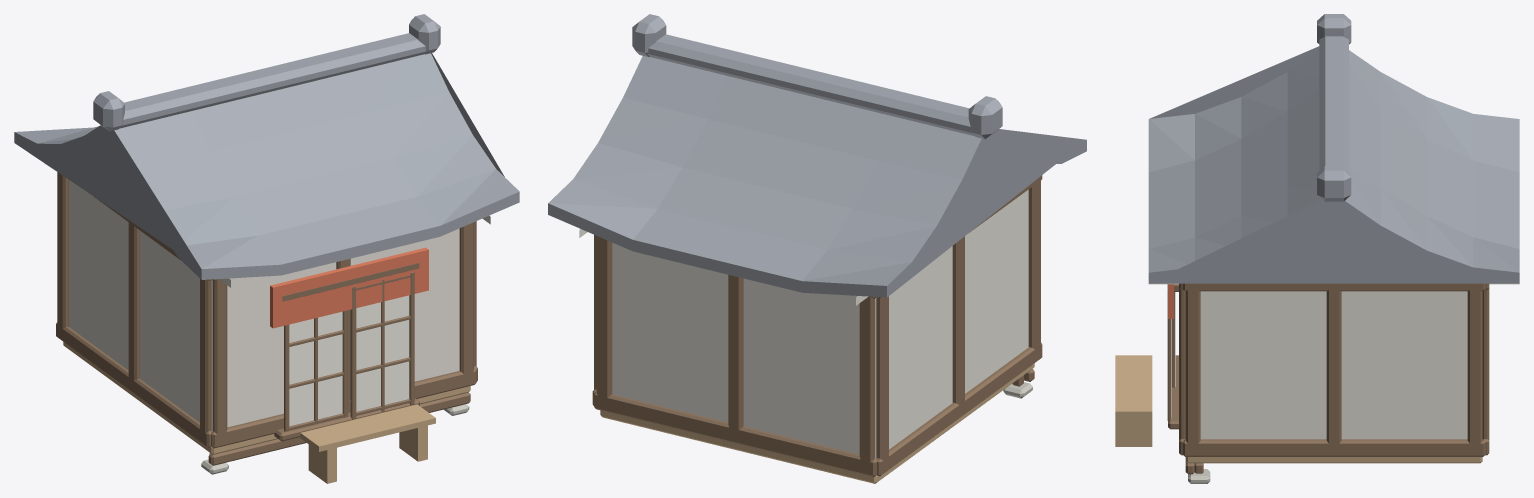
File: noodle-shop.glb
3 views of the same model, side by side, from view 1: azimuth 30°, elevation 25°; view 2: azimuth 150°, elevation 25°; view 3: azimuth 270°, elevation 25° (orthographic). The views are drawn at different scales.
Parts seen in each view (by area): view 1: noodle-shop; view 2: noodle-shop; view 3: noodle-shop.
Boxes of the visible parts, box(x1,y1,x2,y2) form: noodle-shop: box(14, 14, 519, 483); noodle-shop: box(548, 14, 1086, 483); noodle-shop: box(1115, 14, 1519, 483).
Size of the model in its own units: 5.2 by 4.91 by 5.45.
